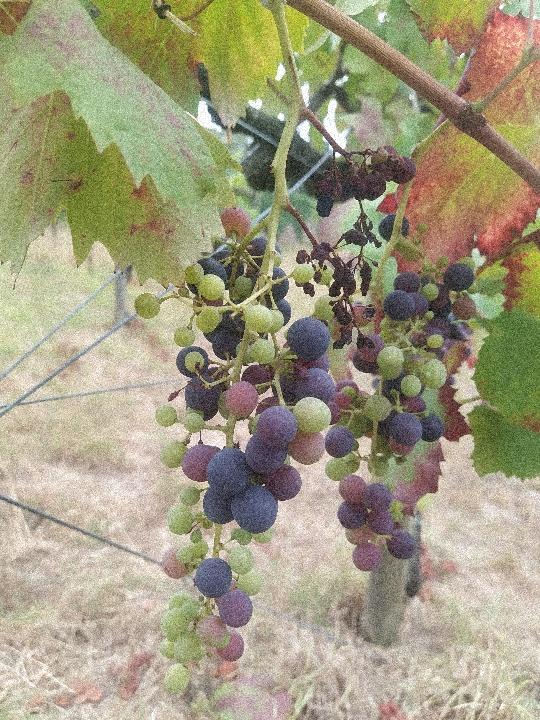grape: (129, 208, 376, 696), (312, 145, 418, 295)
